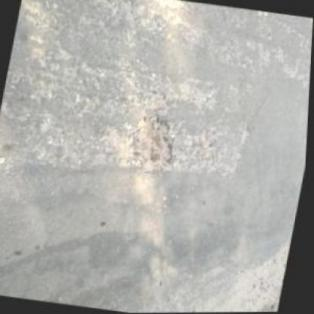Hueco: (124, 107, 186, 178)
